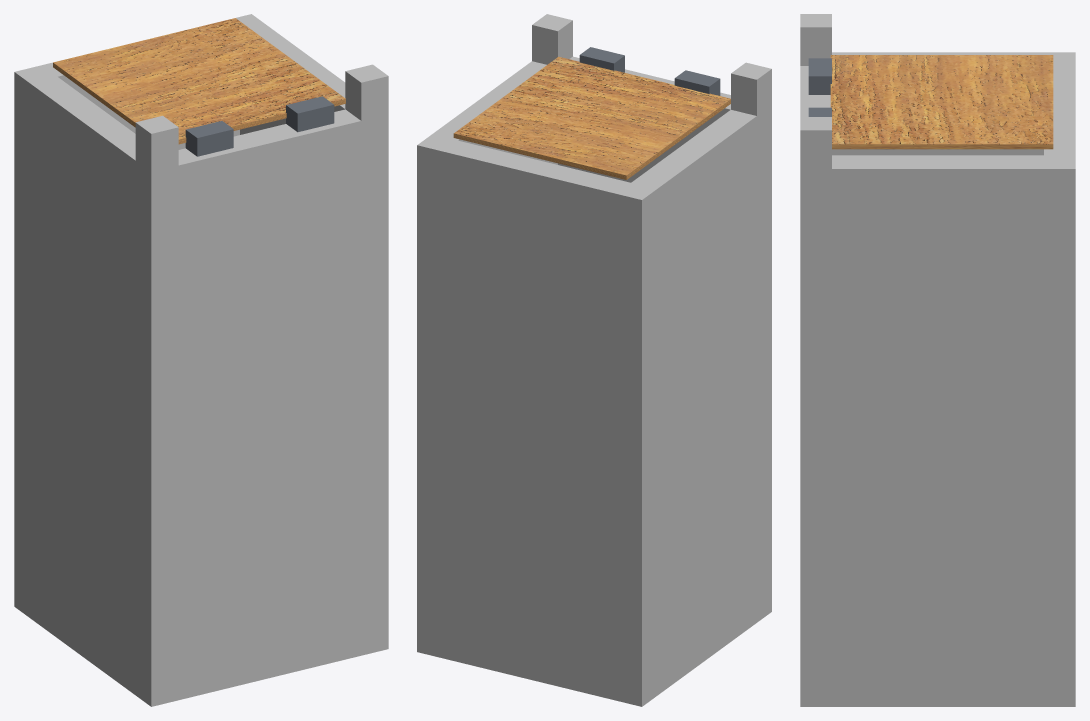
The model's file is Trapdoor.fbx.
3 renders of one model, left to right at view 1: azimuth 30°, elevation 25°; view 2: azimuth 150°, elevation 25°; view 3: azimuth 270°, elevation 25°, orthographic. The views are drawn at different scales.
Visible parts, largest first — view 1: Trap Superstructure, Trap Door, Hinges; view 2: Trap Superstructure, Trap Door, Hinges; view 3: Trap Superstructure, Trap Door, Hinges.
Part boxes in pixels (left/top/right/bottom): Trap Superstructure: left=14, top=14, right=388, bottom=706; Trap Door: left=53, top=18, right=345, bottom=144; Hinges: left=185, top=96, right=334, bottom=156; Trap Superstructure: left=417, top=14, right=771, bottom=706; Trap Door: left=453, top=56, right=730, bottom=179; Hinges: left=579, top=47, right=720, bottom=95; Trap Superstructure: left=800, top=14, right=1075, bottom=706; Trap Door: left=830, top=55, right=1053, bottom=149; Hinges: left=808, top=58, right=831, bottom=116.
Size of the model in its own units: 13 by 30 by 13.
